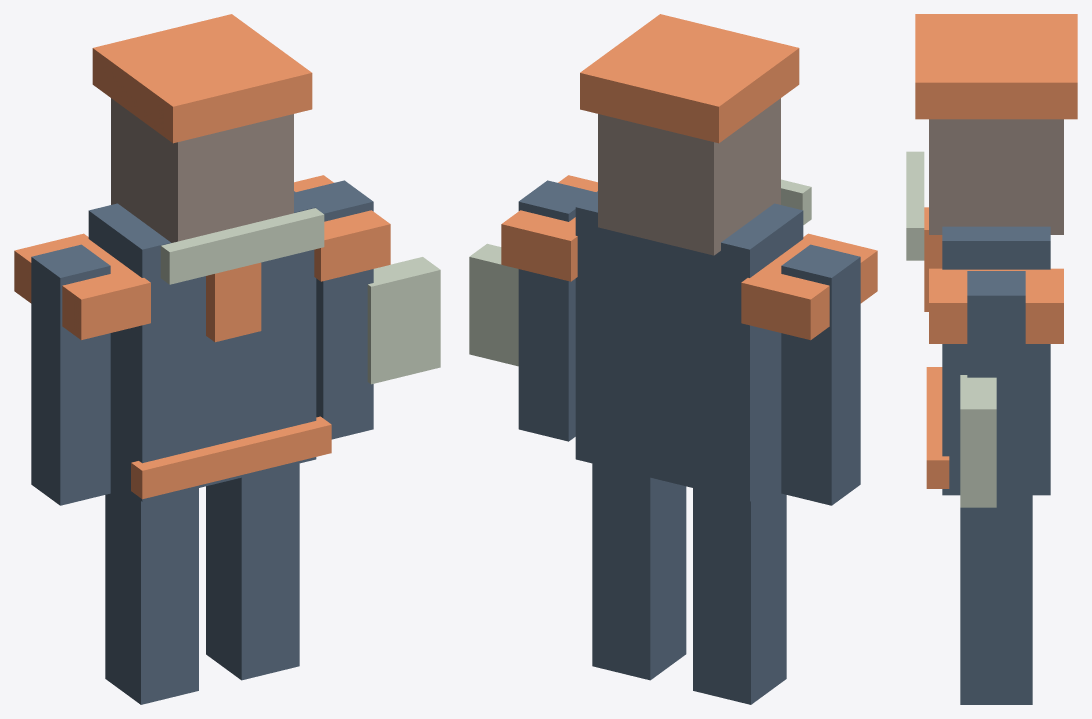
File: 17_dax_latchward_engineer_from_defense.glb
3 views of the same model, side by side, from view 1: azimuth 30°, elevation 25°; view 2: azimuth 150°, elevation 25°; view 3: azimuth 270°, elevation 25° (orthographic).
Parts seen in each view (by area): view 1: Dax Latchward, Engineer from Defense; view 2: Dax Latchward, Engineer from Defense; view 3: Dax Latchward, Engineer from Defense.
Boxes of the visible parts, <box> form: Dax Latchward, Engineer from Defense: <box>14,14,440,704</box>; Dax Latchward, Engineer from Defense: <box>469,14,877,704</box>; Dax Latchward, Engineer from Defense: <box>906,14,1077,704</box>.
Size of the model in its own units: 1.02 by 1.59 by 0.3993.
